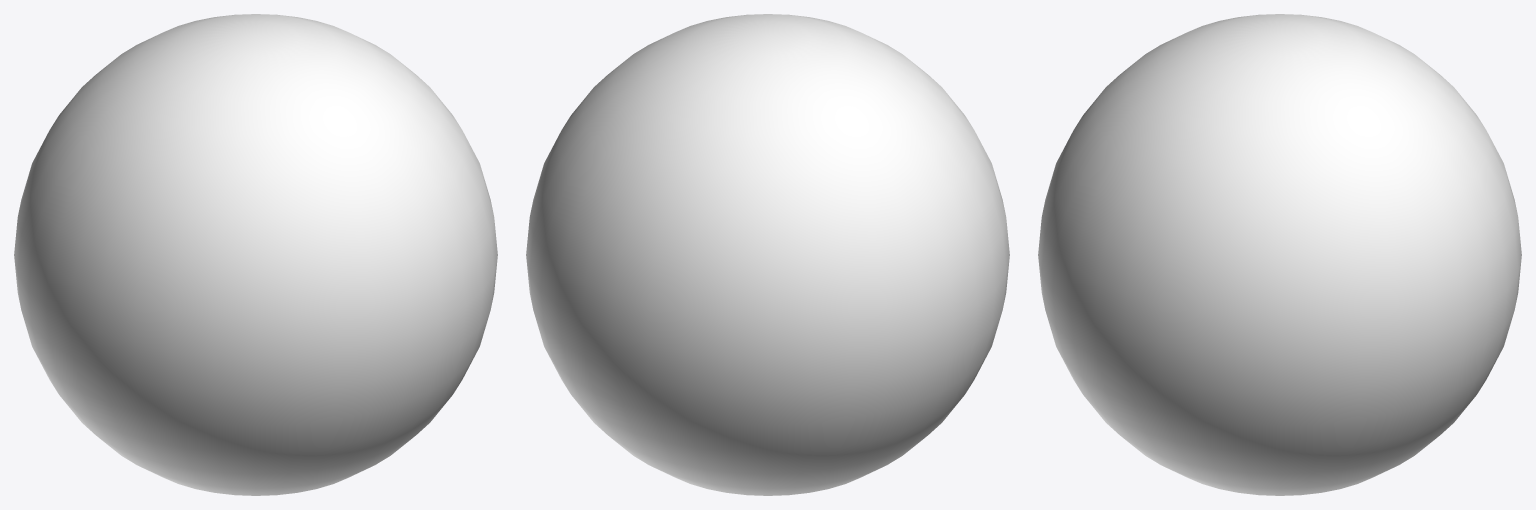
Rendered from big-sphere.obj.
3 renders of one model, left to right at view 1: azimuth 30°, elevation 25°; view 2: azimuth 150°, elevation 25°; view 3: azimuth 270°, elevation 25°, orthographic.
Size of the model in its own units: 8.24 by 8.24 by 8.24.
1 material, 1 textured.
